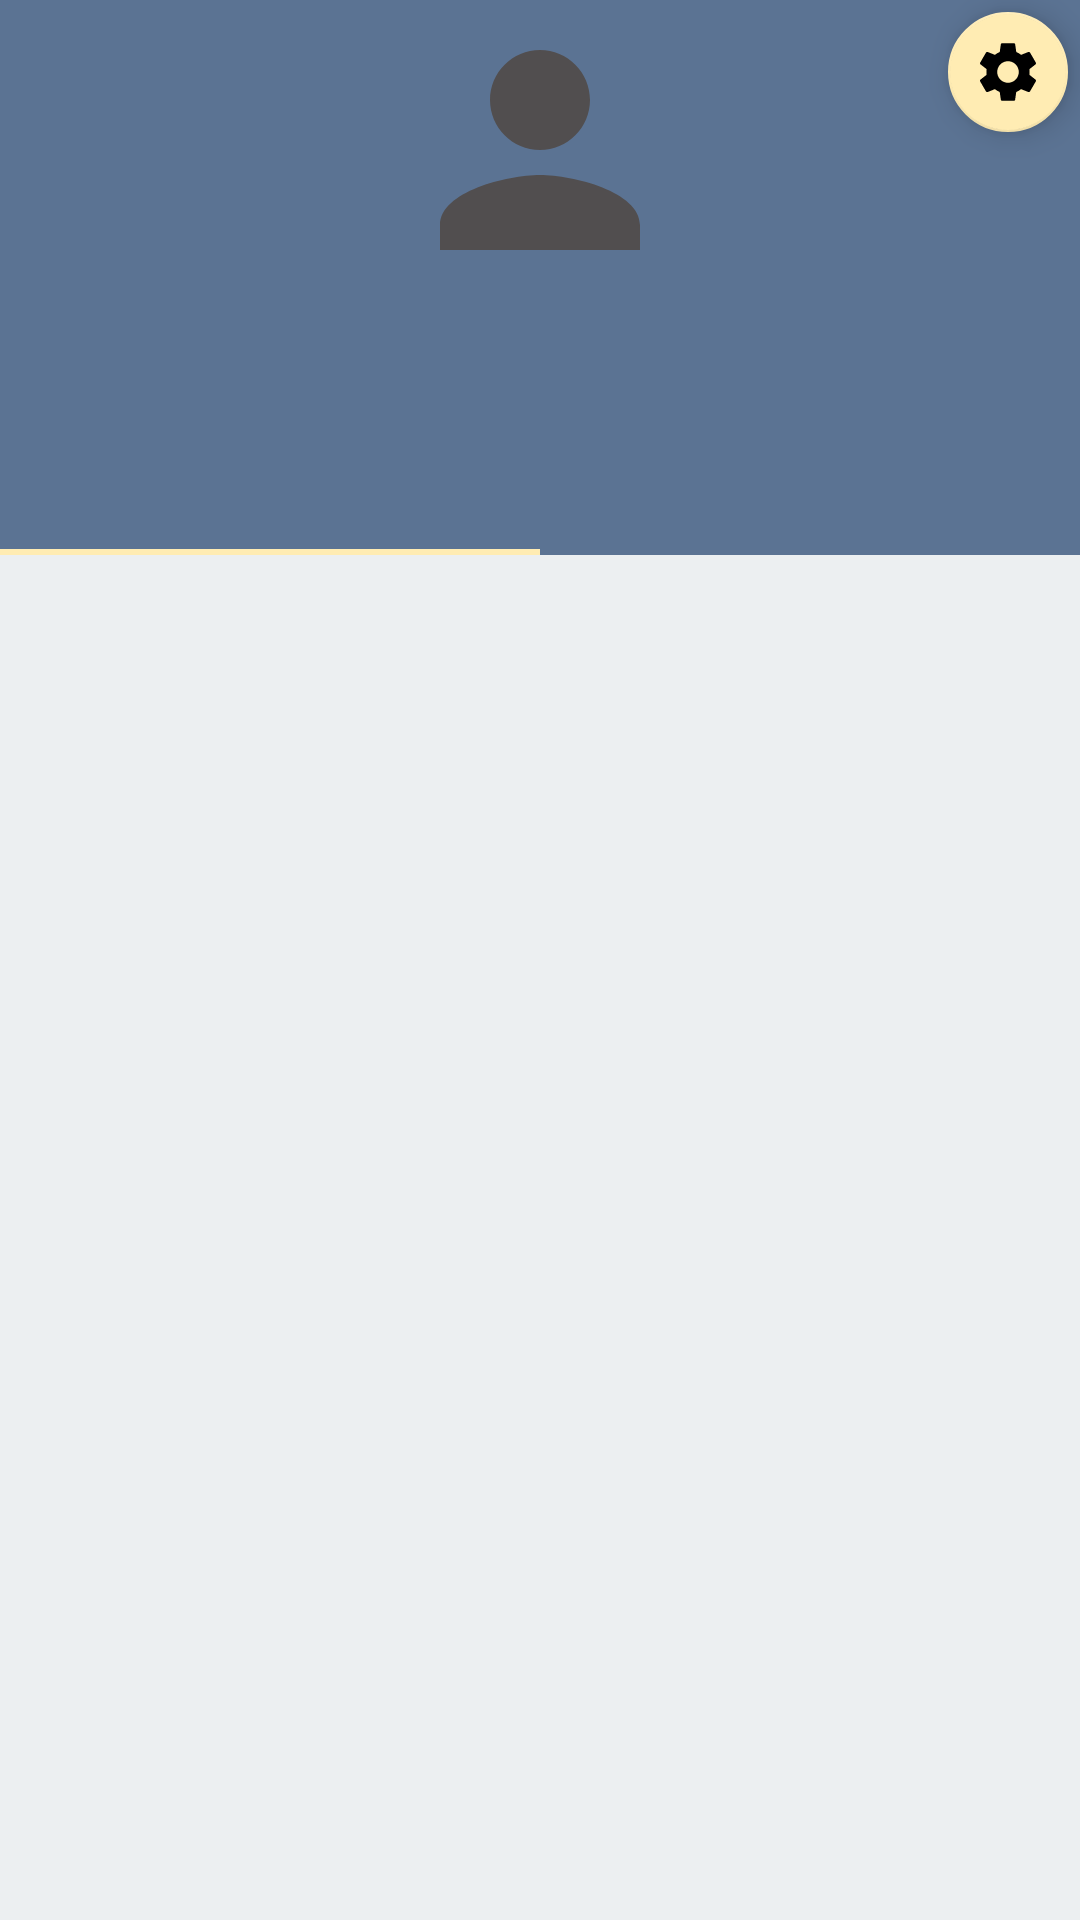

Screen size 1080*1920. Icon name, then its box in pixels as box=[x1, y1, x2, y2]:
person: box=[440, 50, 640, 250]
